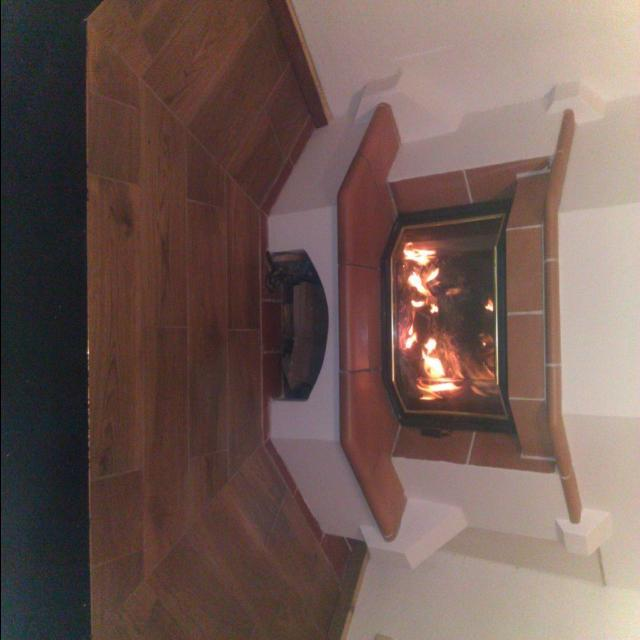Fire: (392, 228, 510, 414)
